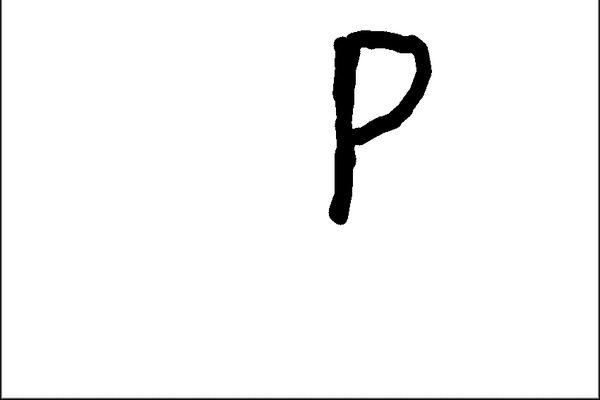P: (305, 20, 441, 230)
